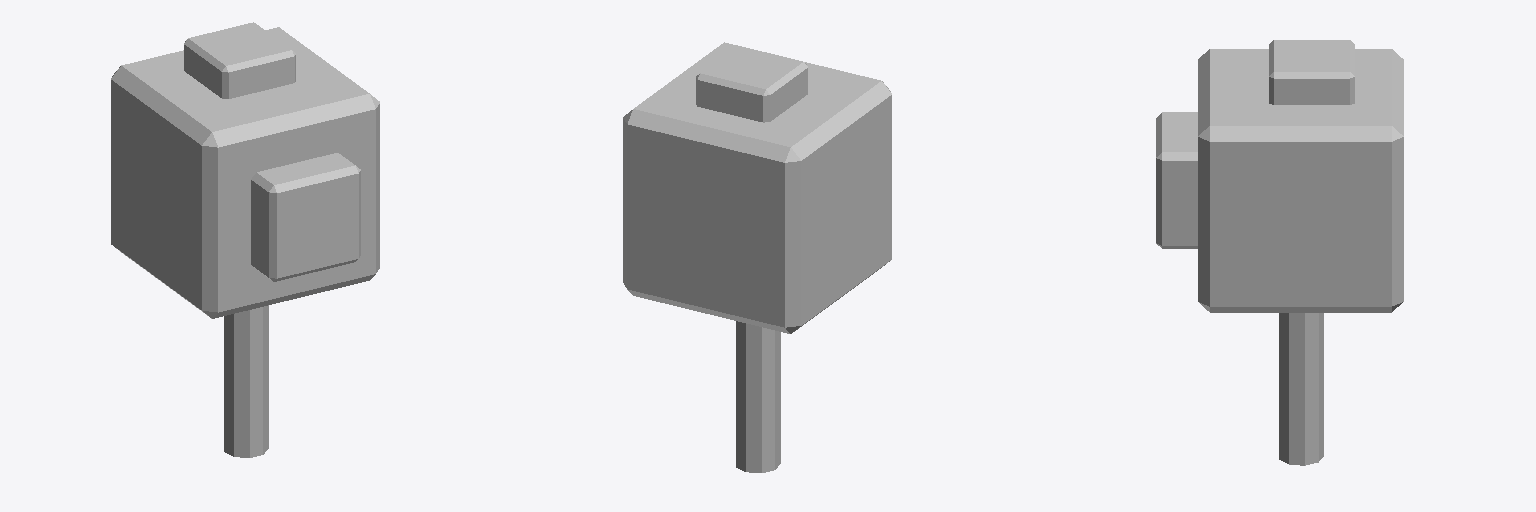
The model's file is Simple_Tree_2_Winter.obj.
3 views of the same model, side by side, from view 1: azimuth 30°, elevation 25°; view 2: azimuth 150°, elevation 25°; view 3: azimuth 270°, elevation 25° (orthographic).
Visible parts, largest first — view 1: Simple_Tree_2_Winter_Cylinder.048; view 2: Simple_Tree_2_Winter_Cylinder.048; view 3: Simple_Tree_2_Winter_Cylinder.048.
Boxes of the visible parts, <box> form: Simple_Tree_2_Winter_Cylinder.048: <box>111,22,379,457</box>; Simple_Tree_2_Winter_Cylinder.048: <box>623,42,891,472</box>; Simple_Tree_2_Winter_Cylinder.048: <box>1156,40,1403,465</box>.
Size of the model in its own units: 2.42 by 5.18 by 2.91.